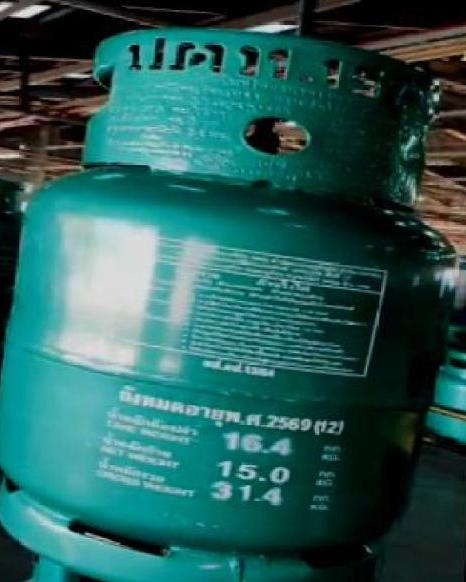cylinder: (0, 1, 466, 582)
